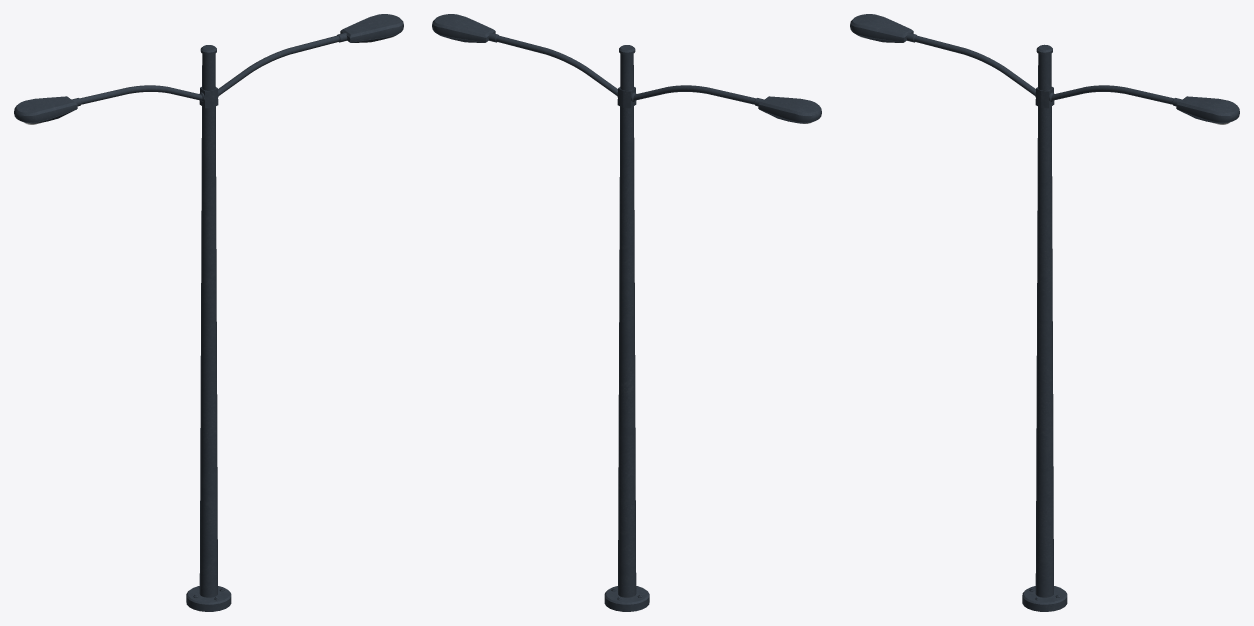
File: StreetLightB.fbx
3 renders of one model, left to right at view 1: azimuth 30°, elevation 25°; view 2: azimuth 150°, elevation 25°; view 3: azimuth 330°, elevation 25°, orthographic.
Parts seen in each view (by area): view 1: StreetLightB_LOD_0; view 2: StreetLightB_LOD_0; view 3: StreetLightB_LOD_0.
Part boxes in pixels (box(x1,y1,x2,y2)): StreetLightB_LOD_0: box(14, 14, 403, 611); StreetLightB_LOD_0: box(432, 14, 821, 611); StreetLightB_LOD_0: box(850, 14, 1239, 611).
Size of what is drawn, in the model's own units: 492 by 677 by 50.15.
